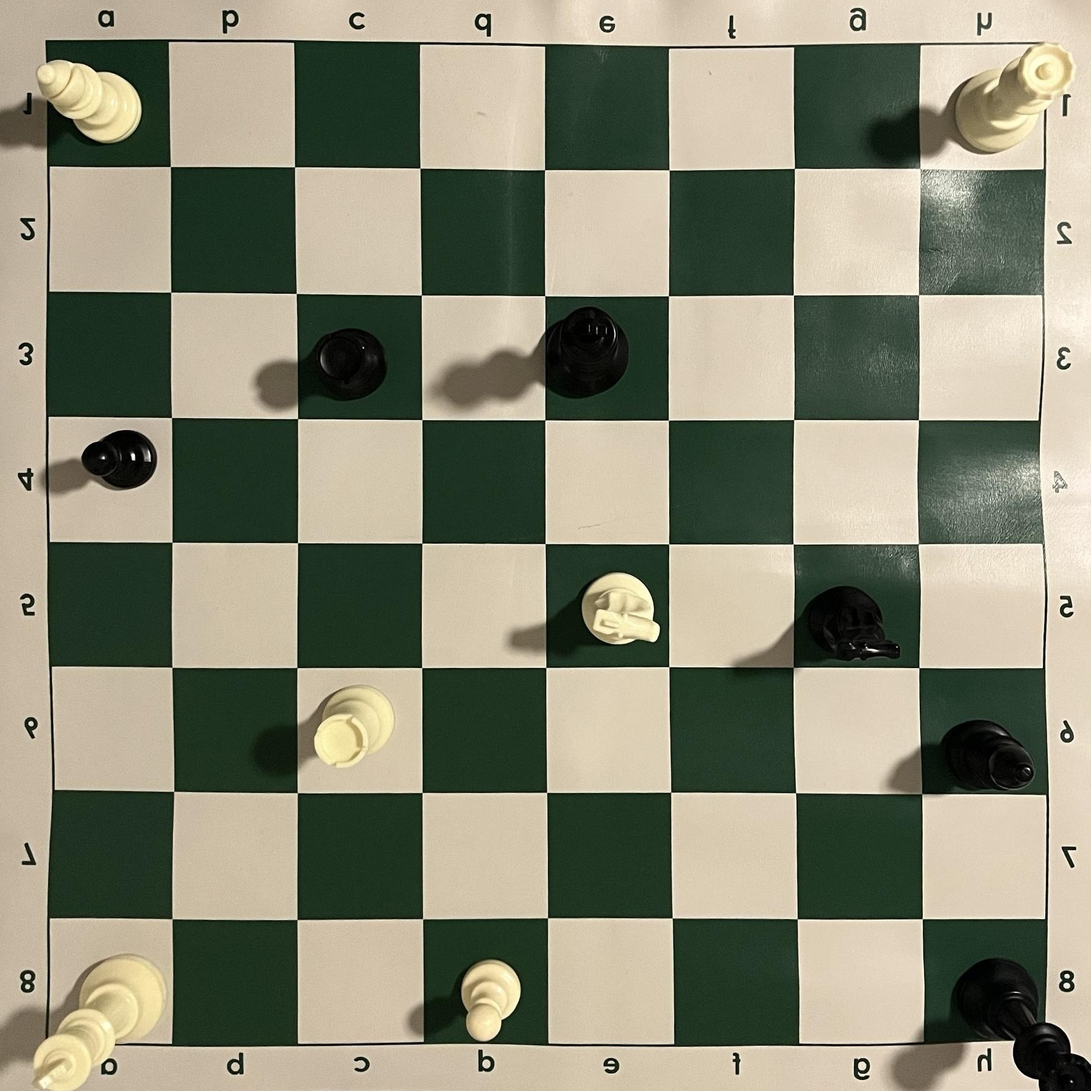black_bishop: (941, 719, 1036, 793)
black_king: (542, 305, 630, 399)
black_knight: (803, 584, 902, 663)
black_pawn: (80, 430, 158, 490)
black_queen: (948, 958, 1091, 1091)
black_rook: (311, 327, 388, 402)
white_bishop: (35, 59, 143, 144)
white_king: (32, 953, 169, 1091)
white_knight: (581, 571, 661, 646)
white_pawn: (460, 958, 522, 1042)
white_queen: (953, 40, 1077, 155)
white_rook: (312, 684, 396, 769)
